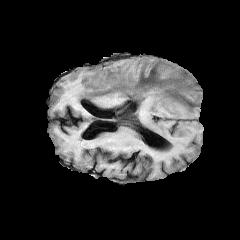glioma: (77, 60, 202, 133)
